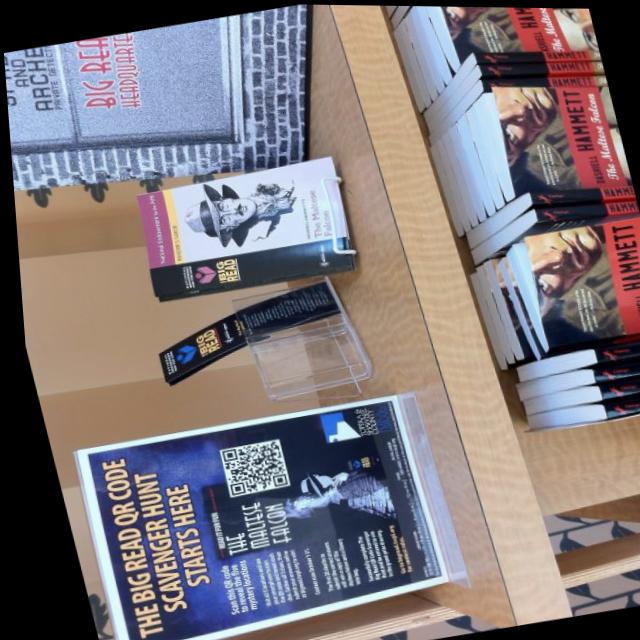qrcode: (214, 439, 283, 495)
